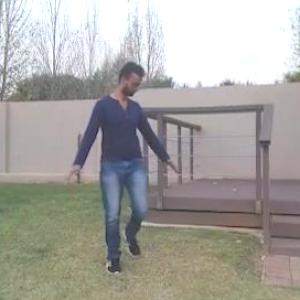land: (72, 58, 178, 282)
